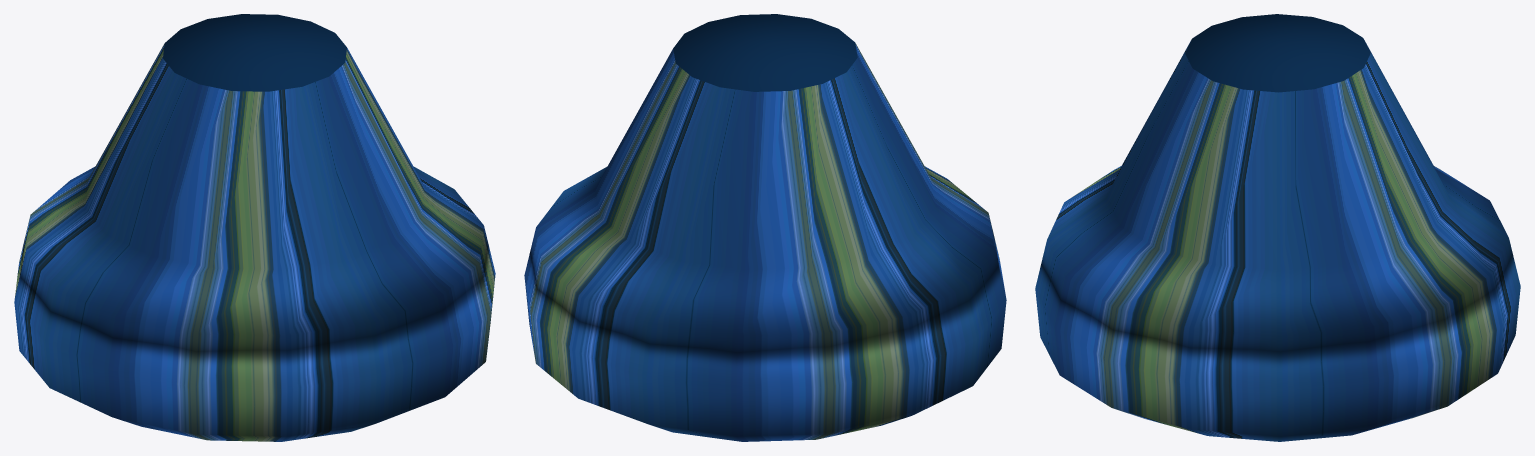
File: SkySpheroid.obj
The picture shows the model from 3 angles, left to right: view 1: azimuth 30°, elevation 25°; view 2: azimuth 150°, elevation 25°; view 3: azimuth 270°, elevation 25°; orthographic projection.
Bounding box in the file's own units: 4526 × 3531 × 4526.
2 materials, 2 textured.
